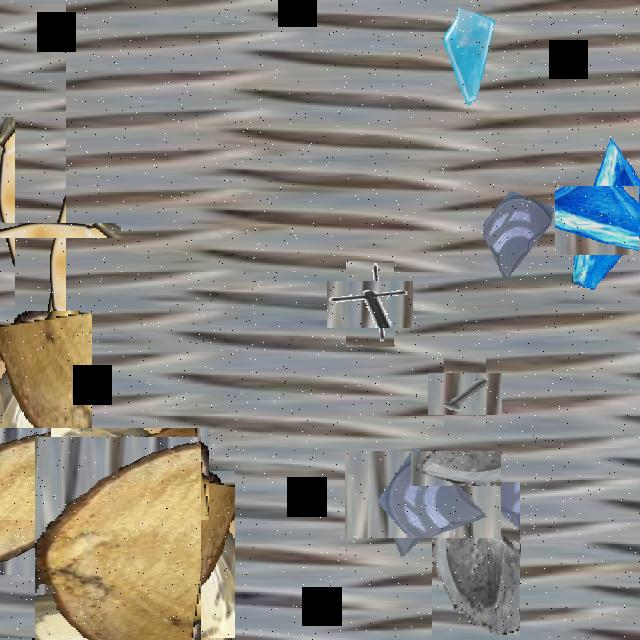glass: (362, 433, 484, 555), (432, 482, 520, 638), (545, 161, 640, 279), (483, 162, 555, 290), (442, 2, 500, 105)
metal: (0, 267, 47, 377), (336, 271, 404, 337), (436, 365, 494, 424)
plastic: (0, 2, 66, 634), (0, 369, 150, 579), (0, 170, 68, 291)
wood: (17, 454, 218, 640), (0, 481, 94, 606)
